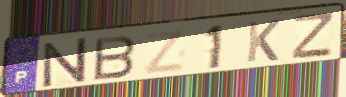1: (203, 22, 225, 70)
B: (92, 33, 138, 82)
K: (244, 18, 283, 64)
N: (41, 36, 88, 90)
Z: (290, 10, 337, 60), (142, 27, 187, 77)
